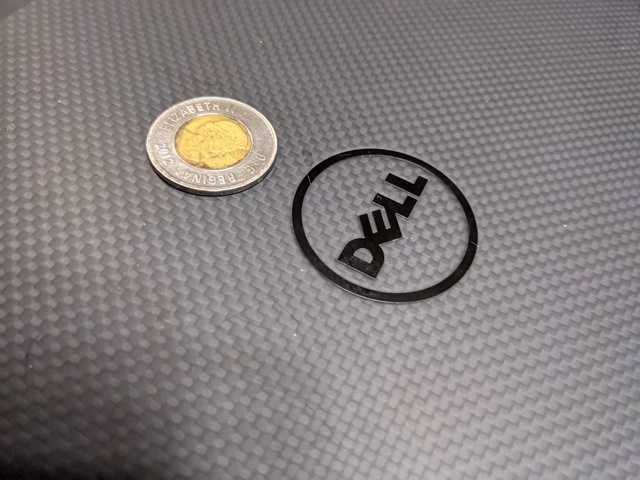twonie: (157, 91, 288, 211)
